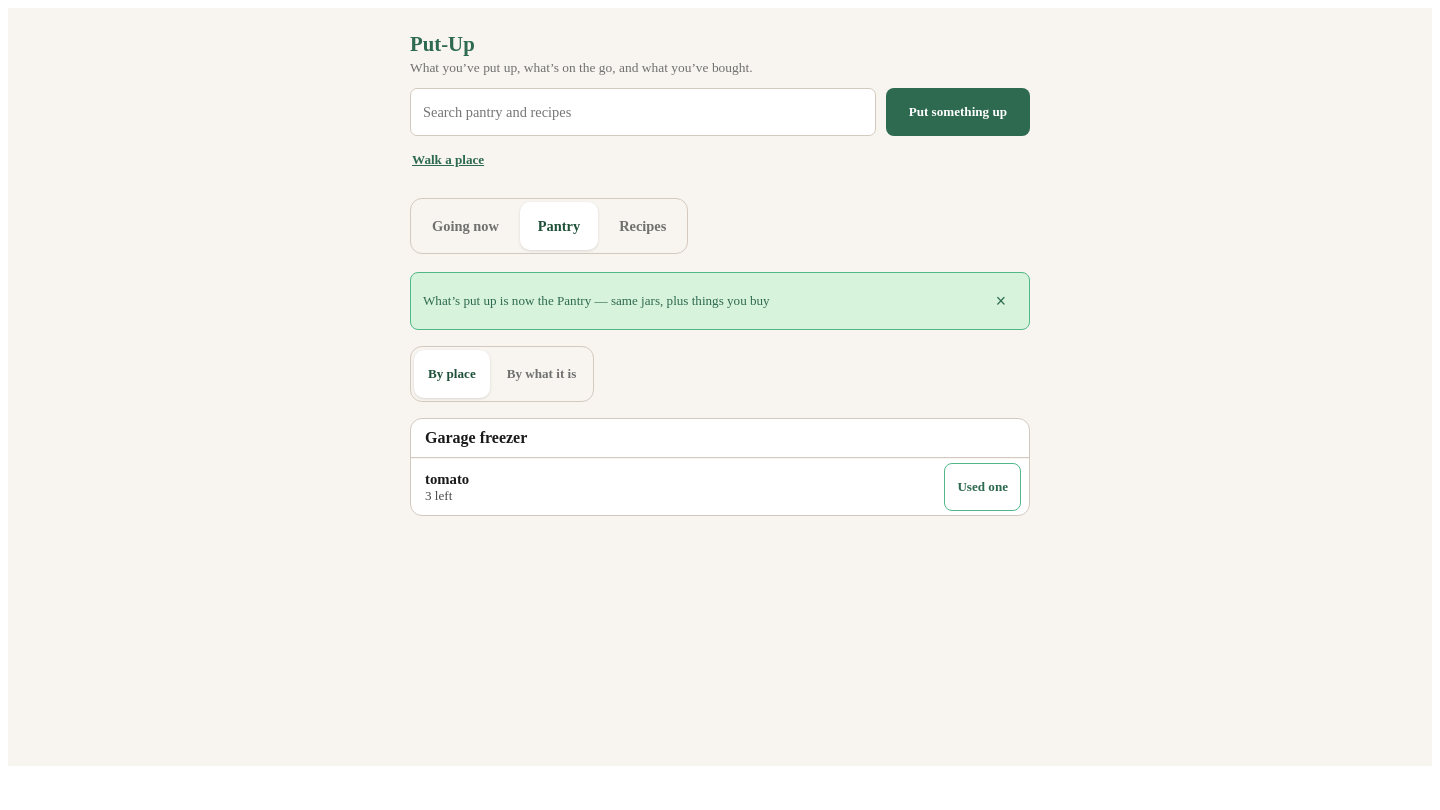
Test: the Pantry row and its sheet — a refused write says why, and the edit stays › batch_closed says so
Click the button with aria-label "Used one — ": (983, 487) [944,463,1021,511]
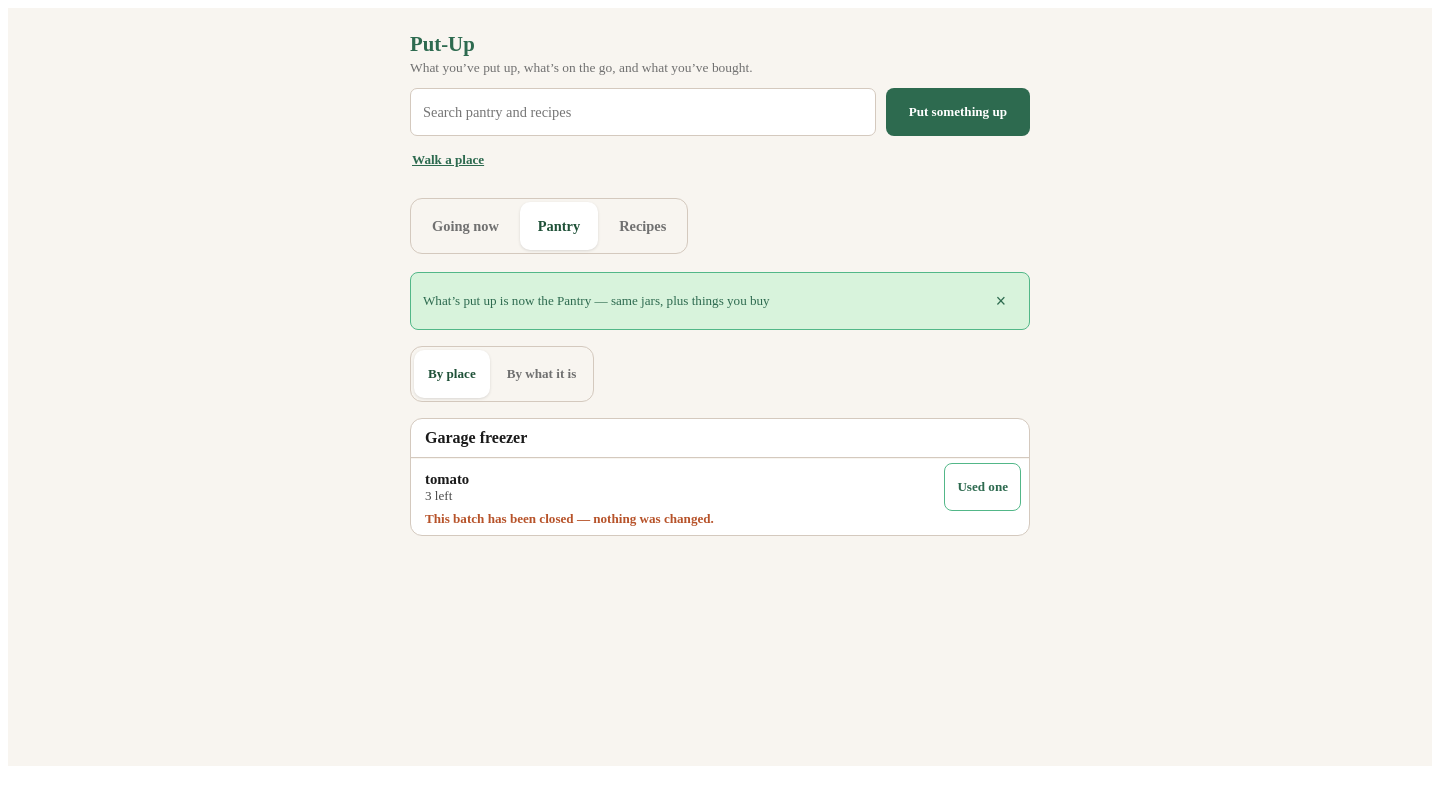
Result: the message reads "This batch has been closed — nothing was changed." at [425,511,714,526]
